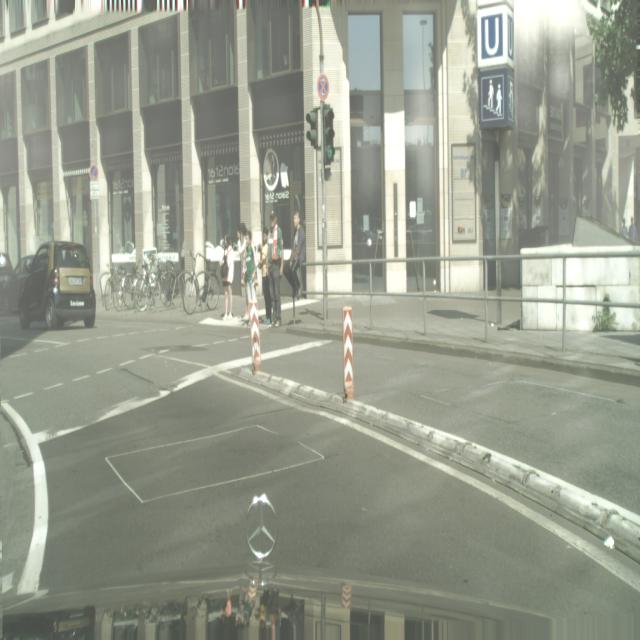car: (183, 250, 220, 314), (133, 250, 160, 312)
person: (266, 209, 284, 328), (240, 231, 259, 322), (288, 211, 306, 301), (257, 228, 271, 323), (220, 234, 235, 321), (628, 216, 638, 243)
truck: (18, 241, 96, 331), (1, 254, 36, 313), (0, 252, 15, 312)
